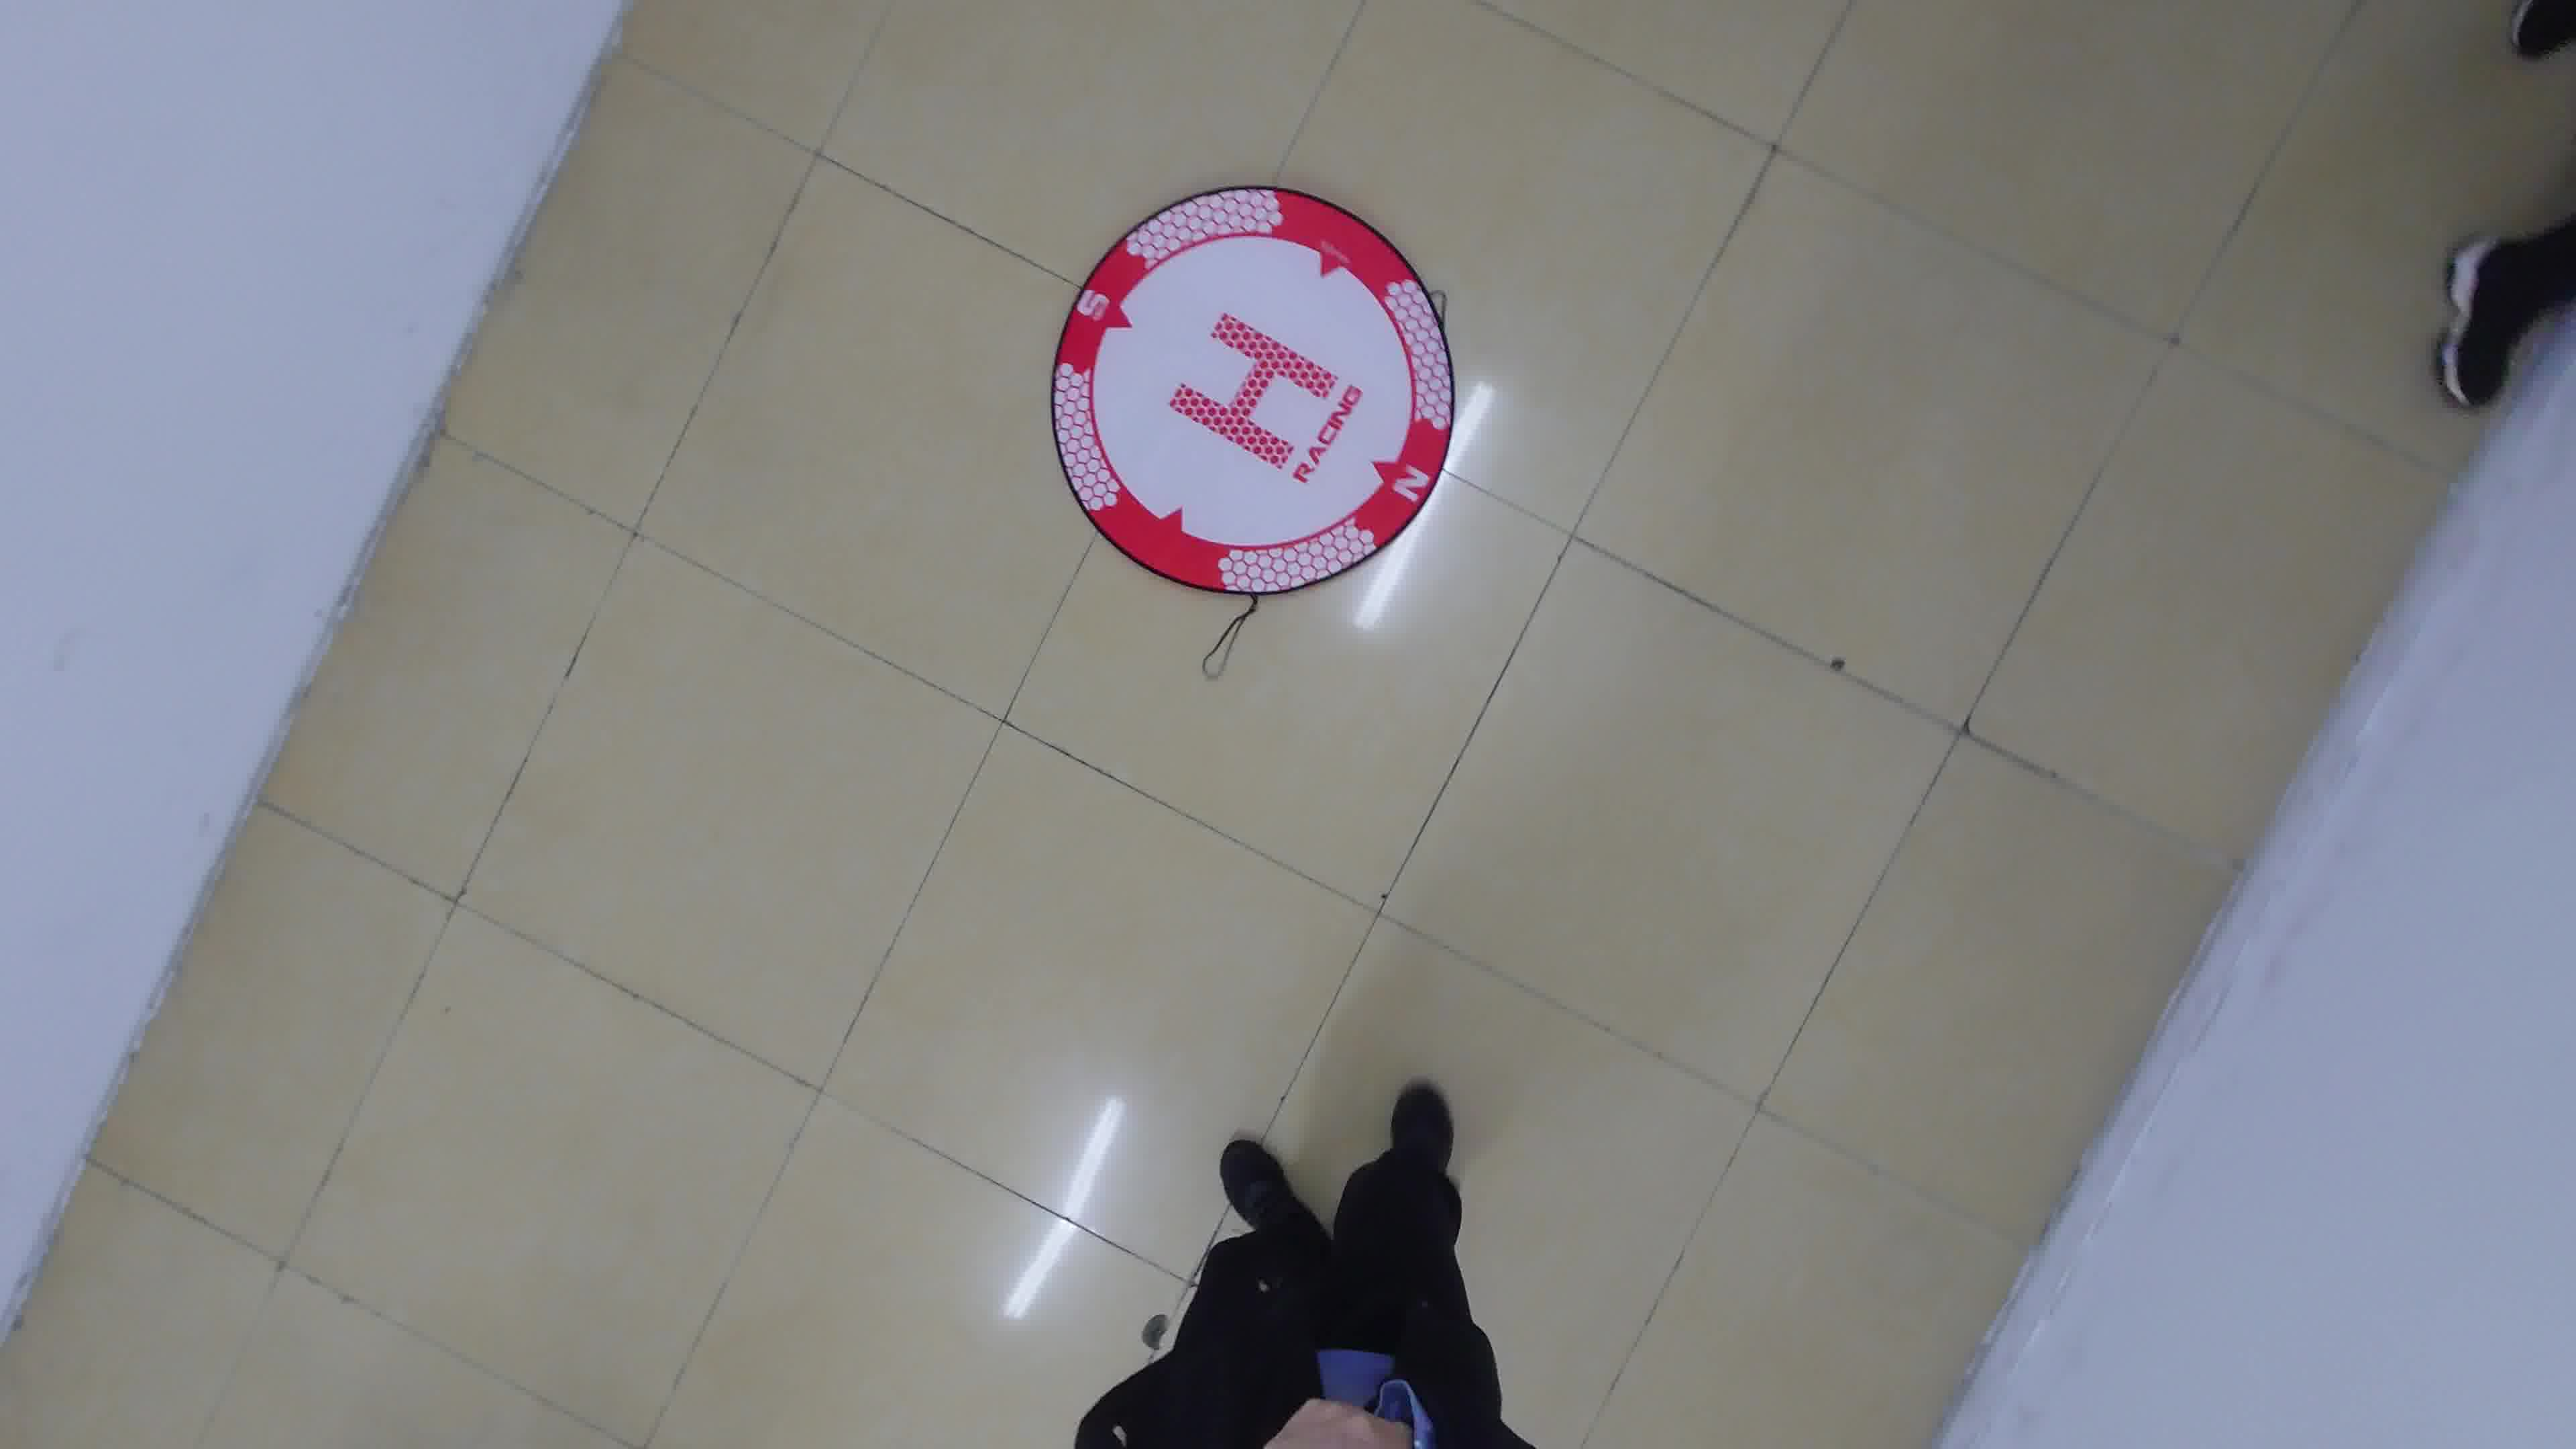H: (1168, 311, 1339, 471)
